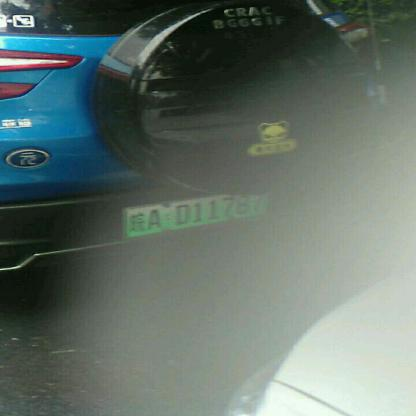lp: (124, 189, 270, 239)
